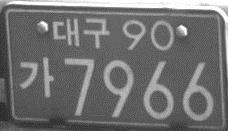0: (149, 18, 175, 53)
6: (181, 60, 215, 121), (142, 58, 174, 121)
7: (61, 56, 95, 117)
9: (101, 58, 135, 119), (120, 17, 146, 50)
가: (18, 54, 55, 101)
대구_O: (50, 15, 110, 50)
